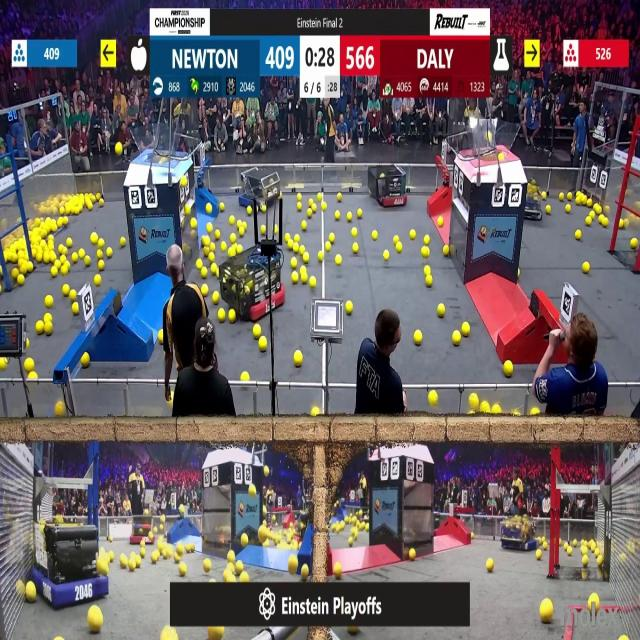ball_airborne: (115, 143, 122, 155), (249, 486, 256, 496), (265, 466, 271, 476), (498, 152, 503, 160)
ball_ground: (90, 610, 103, 634), (540, 600, 552, 622), (27, 585, 37, 603), (56, 404, 66, 419), (288, 556, 298, 571), (503, 360, 512, 376), (468, 394, 478, 408), (335, 562, 343, 578), (81, 352, 89, 367), (293, 351, 301, 366), (224, 570, 234, 582), (302, 564, 310, 579), (428, 392, 437, 405), (414, 332, 422, 346), (179, 562, 187, 576), (258, 338, 266, 352), (61, 264, 70, 276), (481, 400, 490, 412), (17, 263, 26, 275), (163, 628, 172, 640), (346, 302, 354, 315), (26, 358, 34, 371), (204, 559, 212, 572), (486, 559, 494, 572), (453, 333, 461, 346), (36, 321, 44, 334), (298, 270, 306, 283), (461, 323, 469, 335), (44, 322, 52, 334), (241, 534, 249, 546), (253, 324, 260, 337), (439, 305, 446, 318), (227, 310, 234, 323), (241, 571, 249, 582), (594, 205, 602, 216), (218, 310, 225, 322), (410, 550, 417, 562), (72, 304, 79, 316), (45, 295, 52, 307), (290, 256, 297, 268), (151, 552, 158, 564), (226, 552, 234, 562), (202, 285, 210, 295), (492, 406, 500, 416), (292, 272, 298, 285), (92, 234, 99, 245), (36, 251, 43, 262), (178, 542, 185, 553), (0, 358, 6, 370), (530, 409, 538, 418), (120, 556, 126, 568), (30, 370, 38, 379), (631, 239, 638, 249), (95, 276, 102, 286), (50, 268, 57, 278), (312, 408, 319, 418), (63, 285, 70, 295), (212, 292, 219, 302), (422, 247, 429, 257), (16, 276, 23, 286), (219, 242, 226, 252), (43, 252, 50, 262), (49, 252, 56, 262), (203, 237, 210, 247), (324, 242, 331, 252), (426, 276, 432, 287), (304, 252, 310, 263), (310, 277, 316, 288), (28, 263, 34, 274), (583, 556, 589, 567), (130, 560, 136, 571), (226, 562, 234, 570), (83, 256, 90, 265), (11, 270, 18, 279), (444, 246, 450, 256), (584, 264, 590, 274), (99, 262, 105, 272), (574, 231, 580, 241), (328, 234, 334, 244), (209, 252, 215, 262), (396, 243, 402, 253), (352, 244, 358, 254), (202, 269, 208, 279), (237, 562, 243, 572), (602, 216, 608, 226), (384, 250, 390, 260), (211, 265, 217, 275), (318, 251, 324, 261), (207, 222, 213, 232), (206, 204, 212, 214), (70, 290, 76, 300), (303, 220, 309, 230), (160, 333, 165, 345), (136, 557, 142, 567), (108, 552, 114, 562), (589, 600, 594, 612), (242, 373, 249, 381), (44, 314, 51, 322), (61, 254, 68, 262), (238, 246, 245, 254), (591, 594, 598, 602), (186, 542, 193, 550), (198, 260, 203, 271), (293, 242, 298, 253), (411, 231, 417, 240), (106, 248, 112, 257), (260, 224, 266, 233), (587, 217, 593, 226), (98, 250, 104, 259), (424, 267, 430, 276), (347, 212, 353, 221), (67, 239, 73, 248), (439, 217, 445, 226), (99, 239, 105, 248), (227, 248, 233, 257), (298, 245, 304, 254), (357, 209, 363, 218), (566, 204, 572, 213), (286, 241, 292, 250), (60, 245, 66, 254), (596, 557, 602, 566), (63, 216, 69, 225), (587, 199, 593, 208), (337, 254, 342, 264), (72, 252, 77, 262), (190, 218, 195, 228), (620, 218, 625, 228), (238, 220, 245, 227), (204, 247, 210, 255), (293, 235, 299, 243), (239, 229, 245, 237), (78, 250, 84, 258), (227, 216, 233, 224), (184, 206, 190, 214), (140, 546, 146, 554), (316, 192, 322, 200), (580, 548, 586, 556), (61, 207, 67, 215), (74, 206, 80, 214), (536, 551, 541, 560), (219, 203, 224, 212), (215, 232, 220, 241), (232, 234, 237, 243), (424, 237, 429, 246), (352, 229, 357, 238), (308, 208, 313, 217), (336, 211, 341, 220), (349, 537, 354, 546), (89, 203, 94, 212), (210, 243, 215, 252), (175, 554, 180, 563), (393, 236, 399, 243), (284, 235, 290, 242), (260, 206, 266, 213), (371, 232, 376, 240), (120, 238, 124, 248), (100, 200, 105, 208), (545, 206, 550, 214), (338, 192, 343, 200), (247, 207, 252, 215), (559, 192, 564, 200), (596, 600, 600, 610), (575, 198, 580, 206), (567, 192, 572, 200), (567, 546, 572, 554), (542, 542, 547, 550), (96, 192, 101, 200), (275, 224, 279, 233), (296, 203, 300, 212), (210, 578, 216, 584), (541, 191, 547, 197), (564, 542, 569, 549), (322, 203, 326, 211), (296, 192, 300, 200), (108, 535, 113, 541), (473, 535, 477, 542), (313, 205, 317, 212), (622, 636, 629, 640), (27, 340, 30, 348), (0, 286, 4, 292)
goal: (465, 122, 521, 161), (127, 130, 186, 160)
robot_blue: (30, 524, 106, 608), (239, 165, 283, 209), (501, 514, 539, 550), (524, 181, 546, 222)
robot_red: (220, 247, 286, 321), (373, 166, 409, 207), (130, 511, 155, 544)
